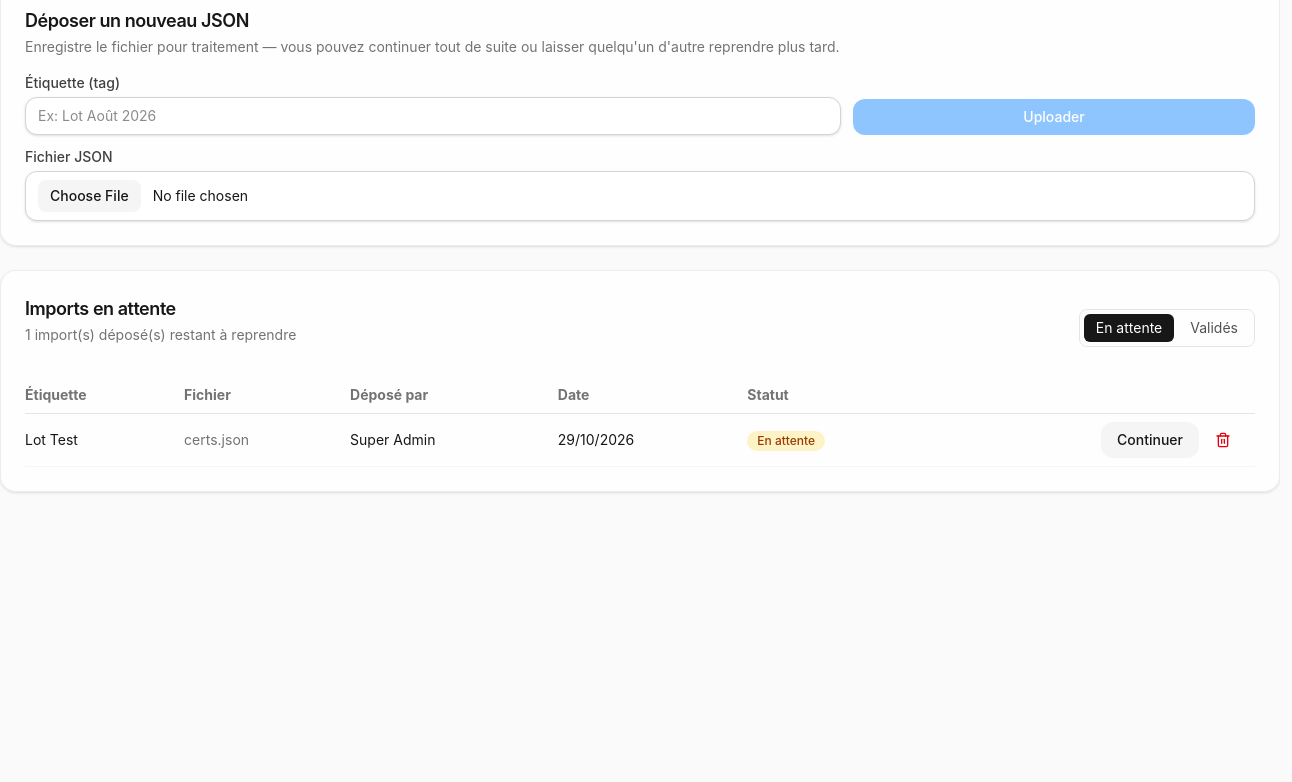
it: ImportPage › disables the confirm button until an existing-doctor row has a matched account
Expected: the text "Lot Test" is shown, [25,414,184,466]
Click the button "Continuer".
click(1150, 440)  # box [1101,422,1199,458]
(page scrolled)
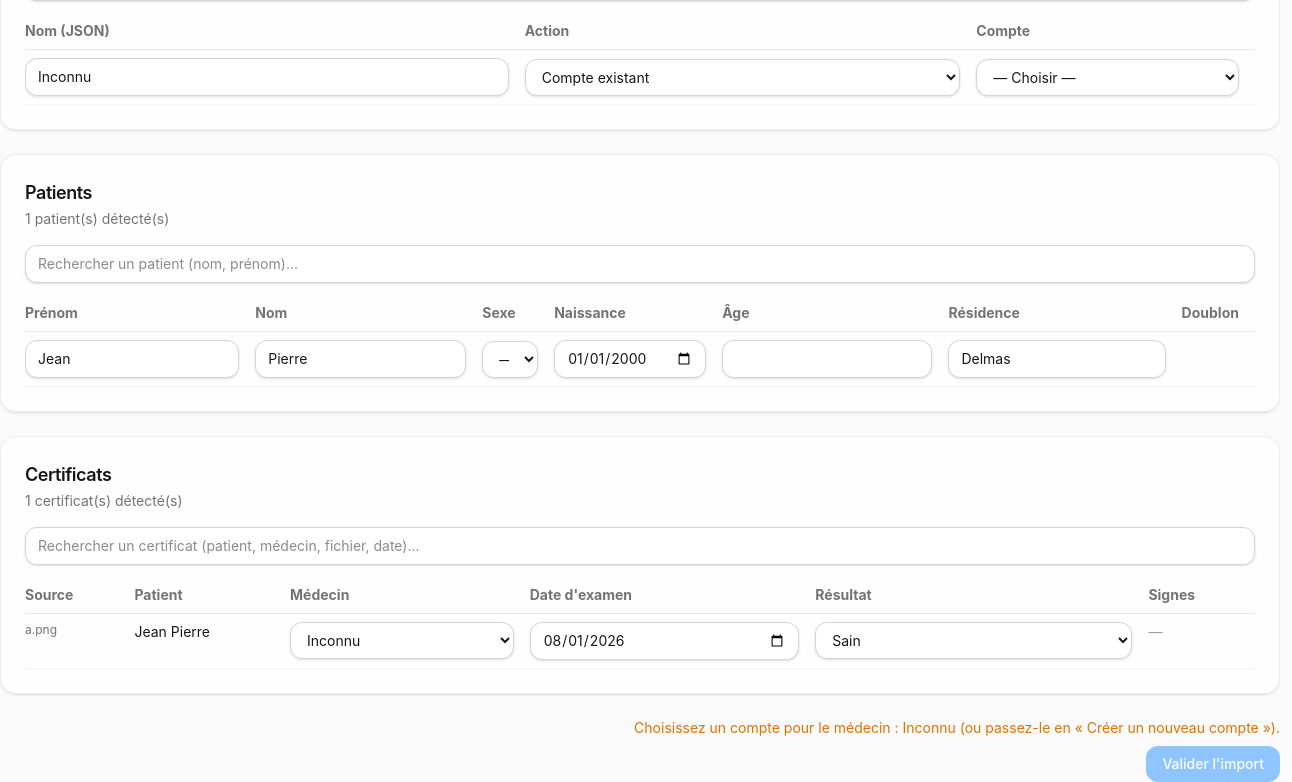
Result: the button "Valider l'import" is disabled at [1146,746,1280,781]
